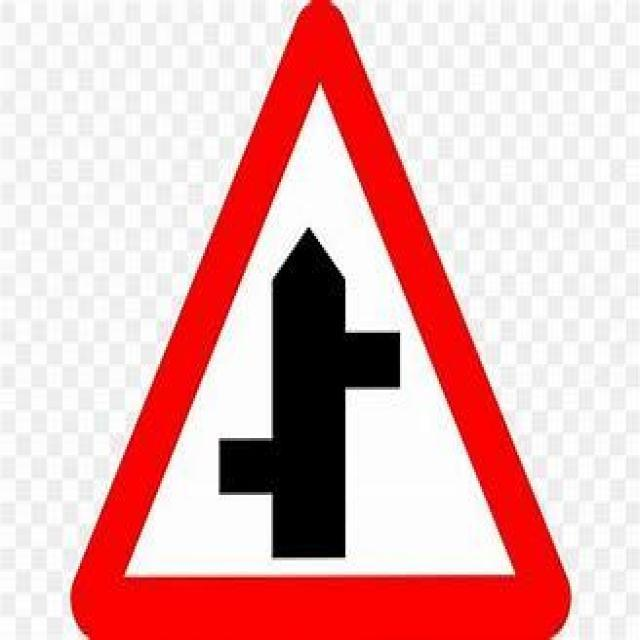staggered intersection: (72, 24, 569, 627)
